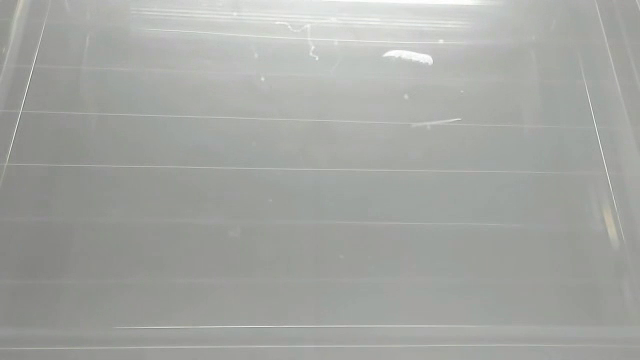alpha: (381, 45, 435, 71)
